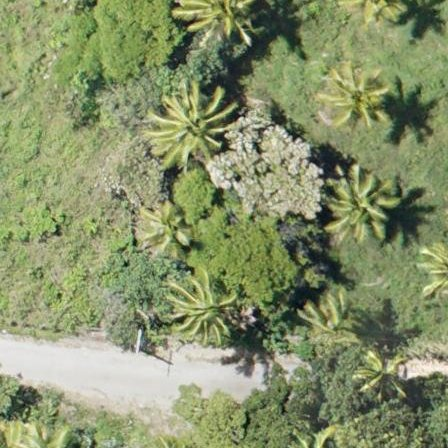palm_tree: (143, 78, 233, 163), (328, 168, 397, 243), (172, 267, 240, 339), (321, 65, 386, 128), (138, 202, 200, 258), (357, 351, 408, 399)
